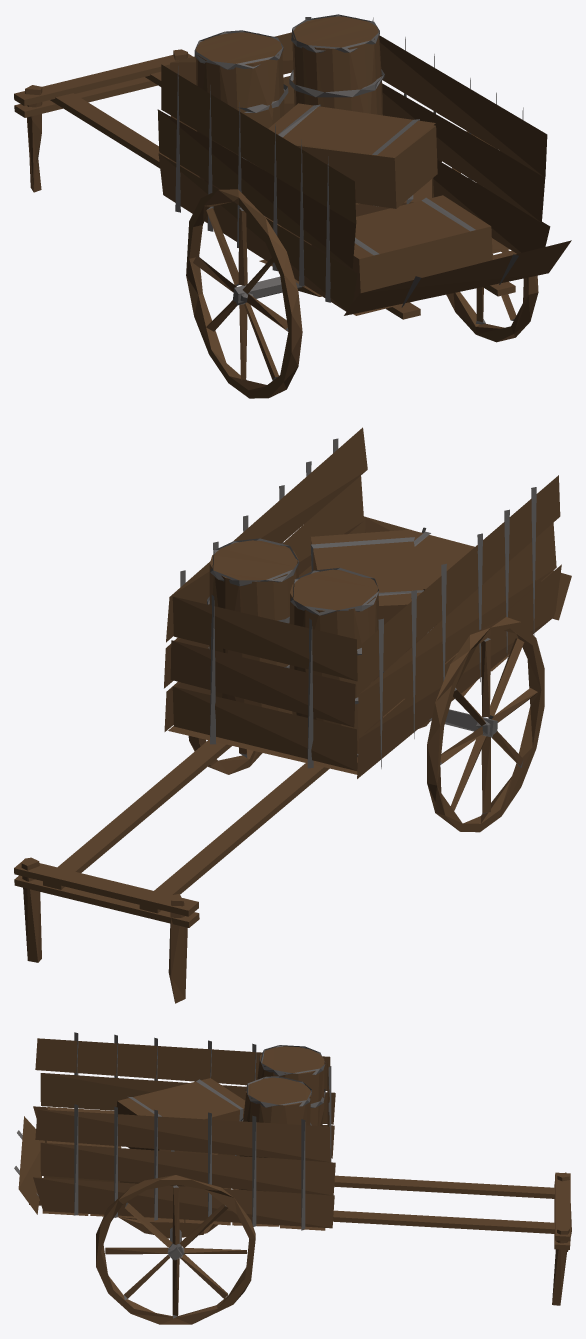
The model's file is wooden-cart.lod1.glb.
3 renders of one model, top to bottom at view 1: azimuth 30°, elevation 25°; view 2: azimuth 150°, elevation 25°; view 3: azimuth 270°, elevation 25°, orthographic. The views are drawn at different scales.
Parts seen in each view (by area): view 1: Cylinder.002_metal_0; view 2: Cylinder.002_metal_0; view 3: Cylinder.002_metal_0.
Part boxes in pixels (x1,y1,x2,y2): Cylinder.002_metal_0: (14,14,571,398); Cylinder.002_metal_0: (14,427,571,1003); Cylinder.002_metal_0: (14,1032,571,1324).
Size of the model in its own units: 1.85 by 1.92 by 4.6.
